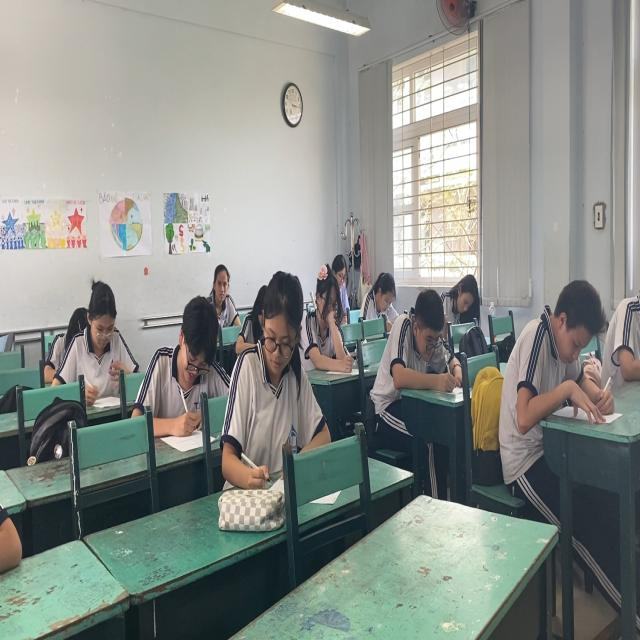not_cheating: (240, 269, 321, 476), (509, 272, 609, 430), (148, 292, 222, 444), (70, 269, 130, 375), (389, 286, 447, 386), (306, 248, 342, 361), (440, 262, 484, 327), (201, 252, 241, 320), (356, 269, 399, 331)
